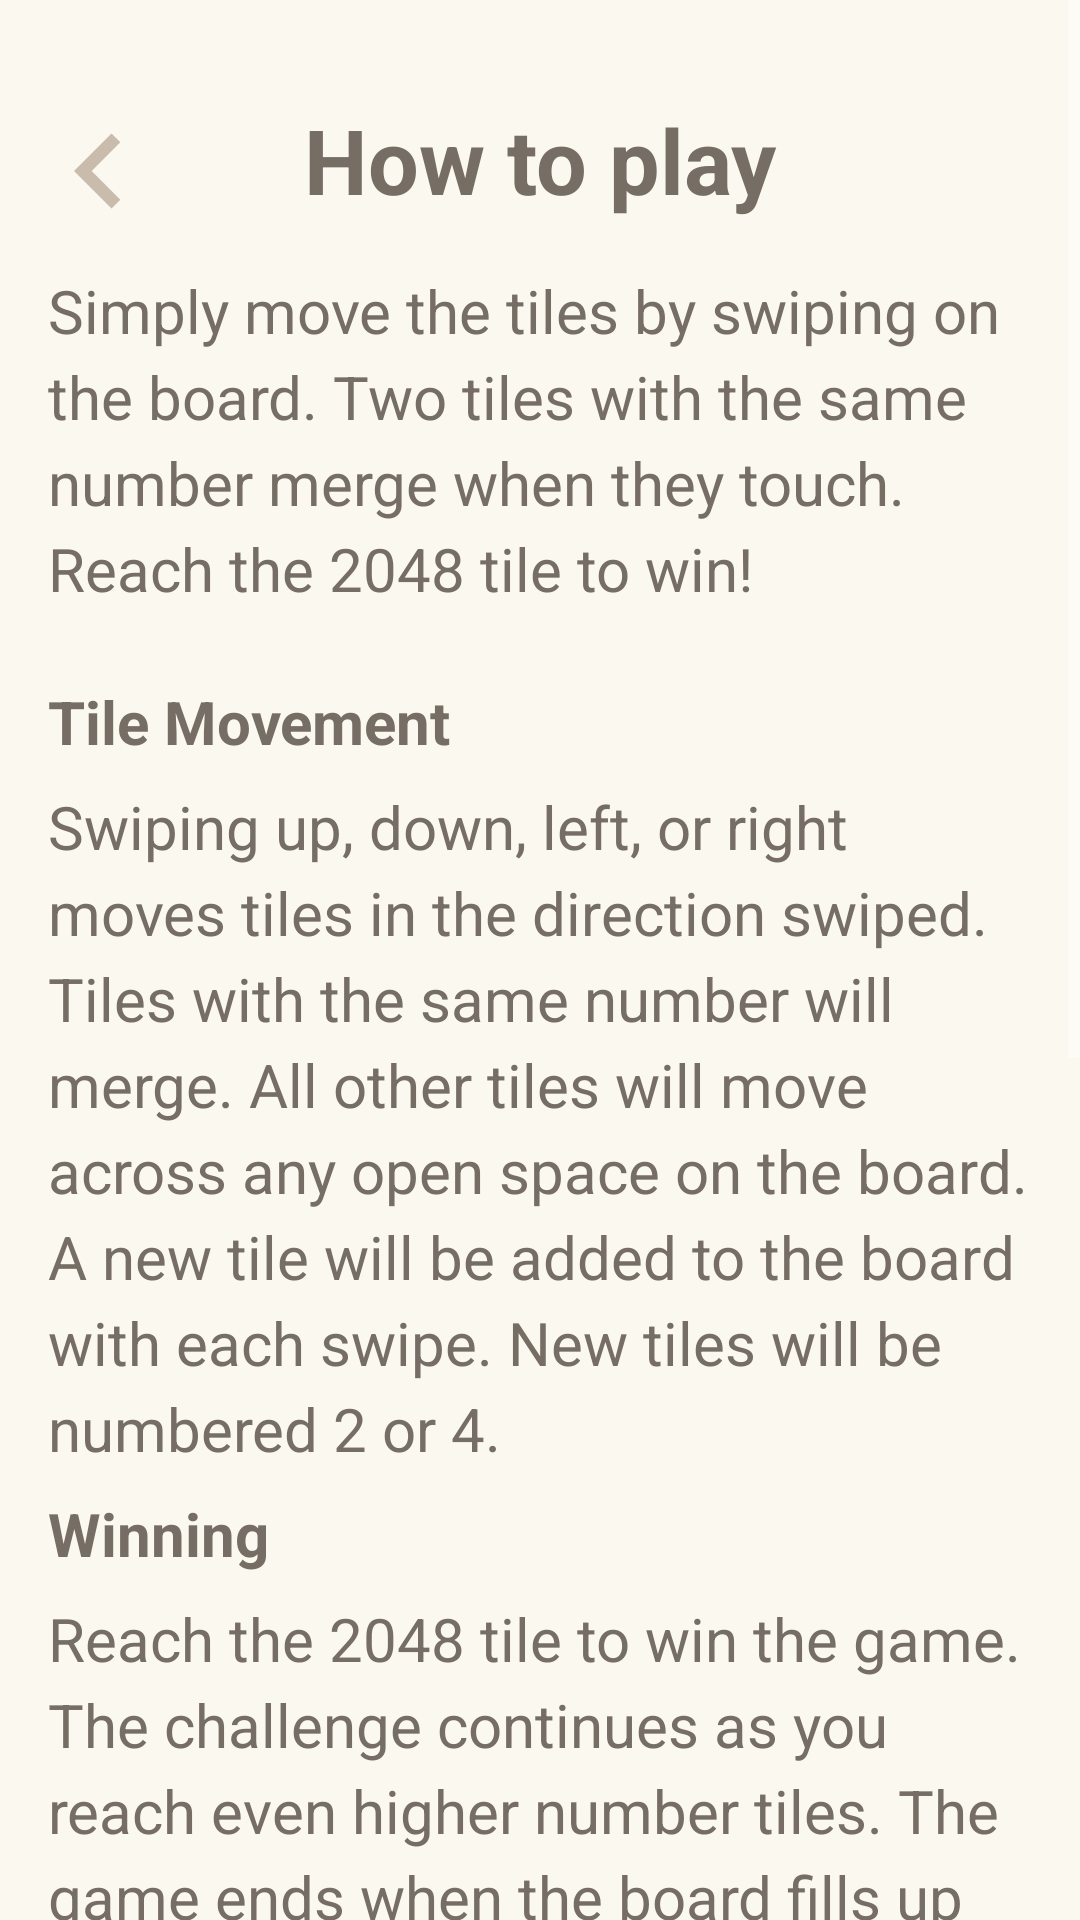

Locate icon controls on the screen. Image size 1080*1920, boxes as (x1, y1, x2, y2).
back: (74, 134, 120, 208)
